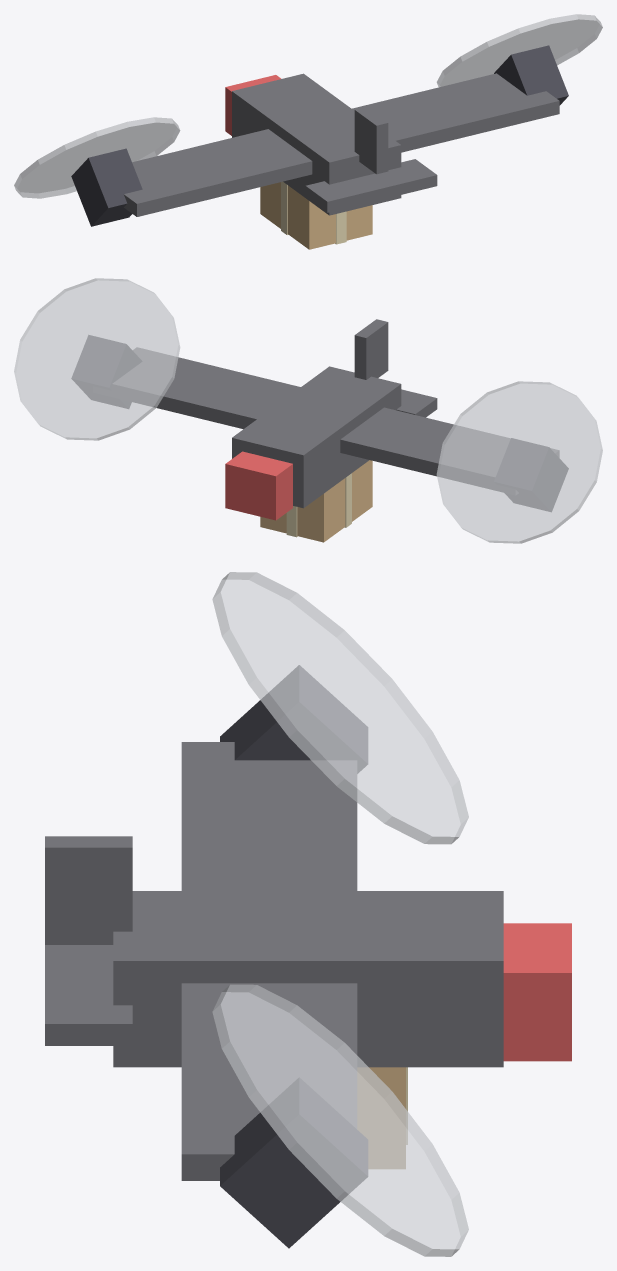
File: hybrid.gltf
3 renders of one model, top to bottom at view 1: azimuth 30°, elevation 25°; view 2: azimuth 150°, elevation 25°; view 3: azimuth 270°, elevation 25°, orthographic. The views are drawn at different scales.
Visible parts, largest first — view 1: Hybrid; view 2: Hybrid; view 3: Hybrid.
Boxes of the visible parts, box(x1,y1,x2,y2) form: Hybrid: box(14, 14, 602, 249); Hybrid: box(14, 278, 602, 543); Hybrid: box(45, 572, 571, 1256).
Bounding box in the file's own units: 1.36 × 0.3866 × 0.54.
